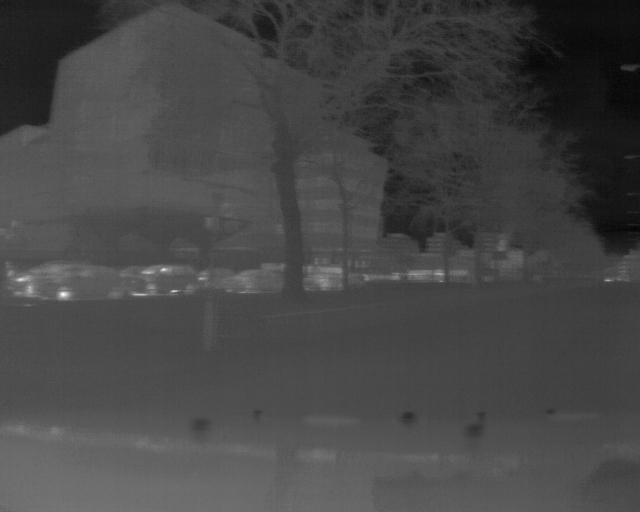car: (49, 261, 127, 301), (220, 259, 285, 297), (131, 261, 198, 296)
